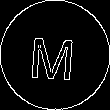M_N: (30, 29, 80, 81)
